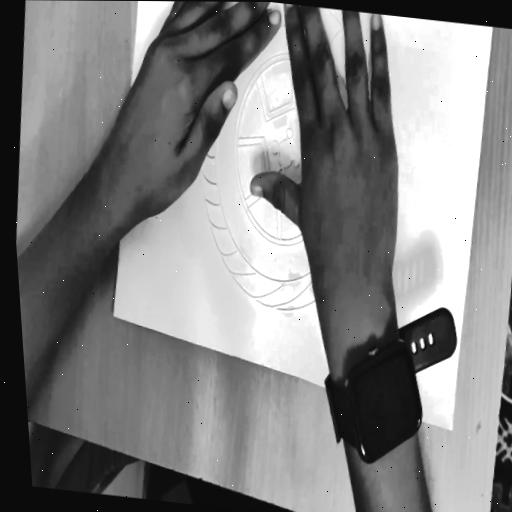bottom_left: (447, 423, 459, 438)
bottom_right: (107, 306, 119, 324)
tire: (180, 0, 407, 348)
